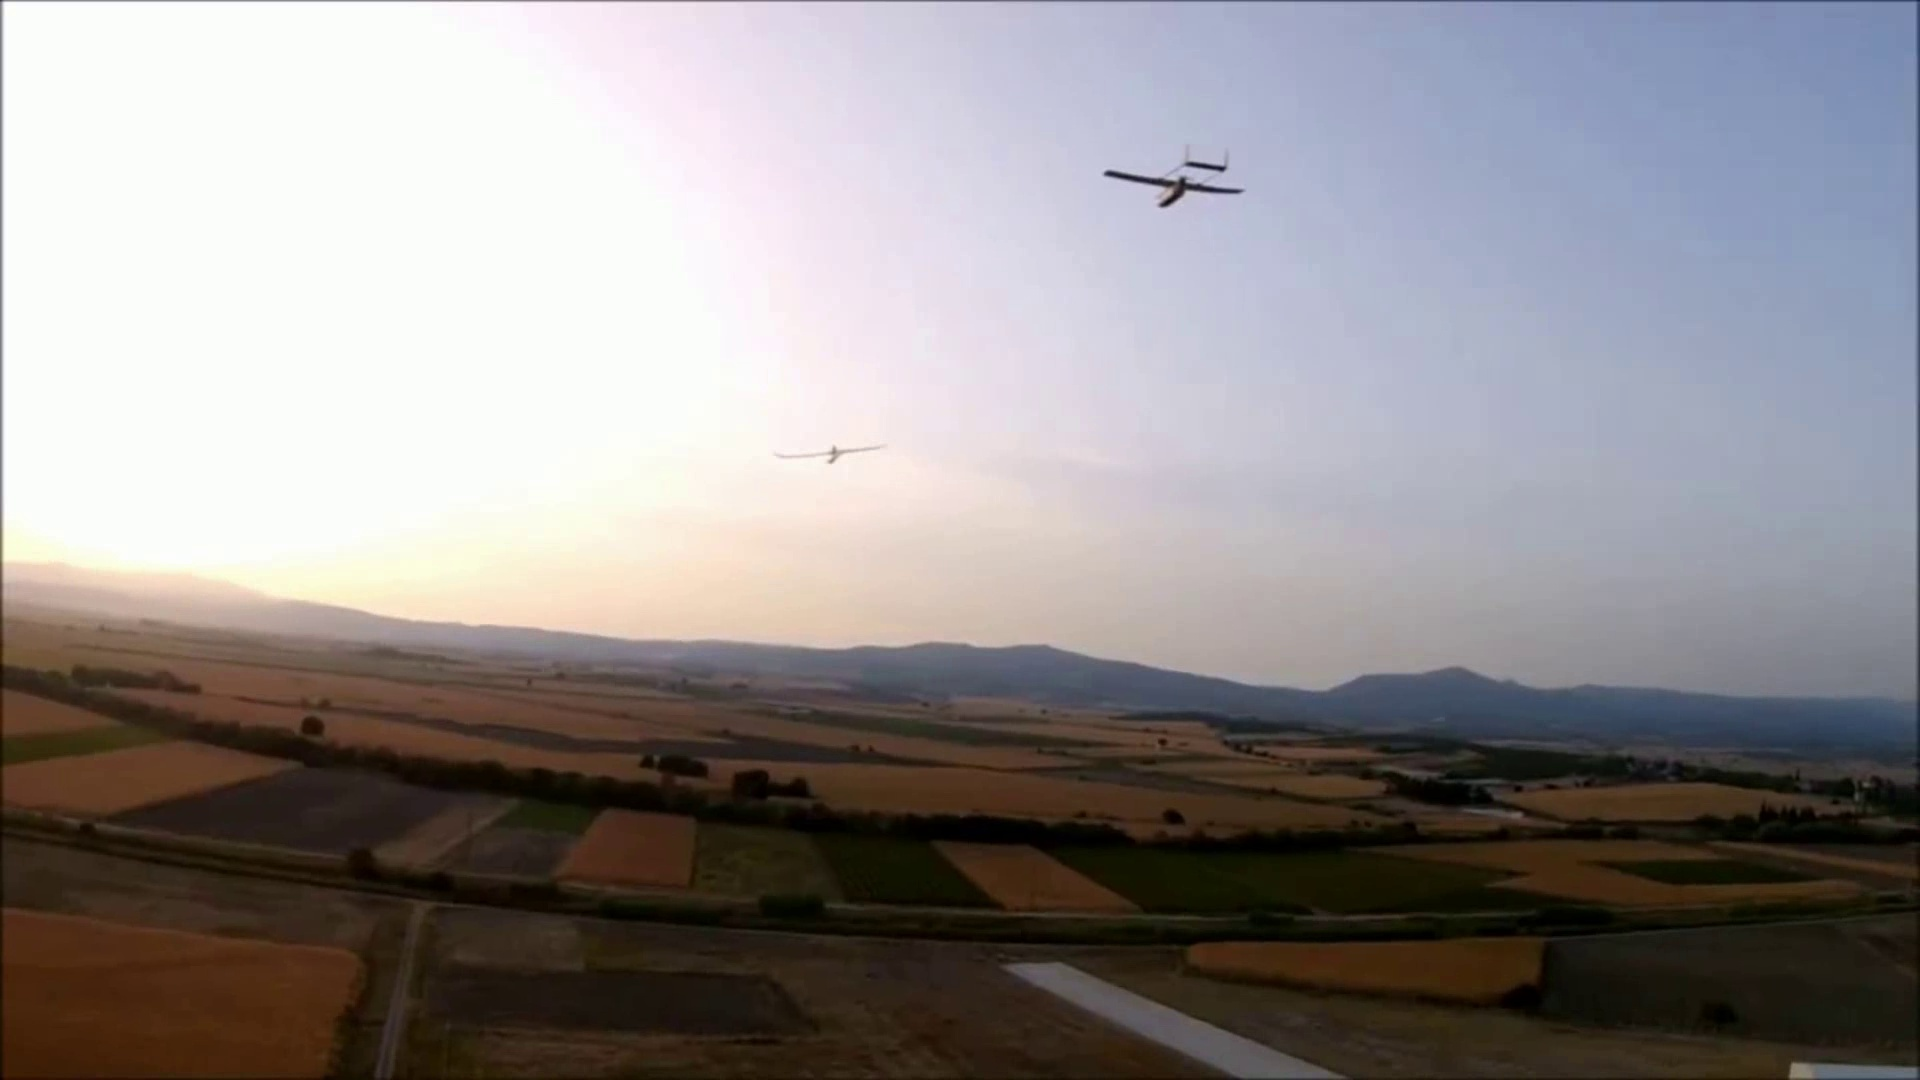airplane: (1100, 148, 1246, 207), (771, 442, 890, 465)
